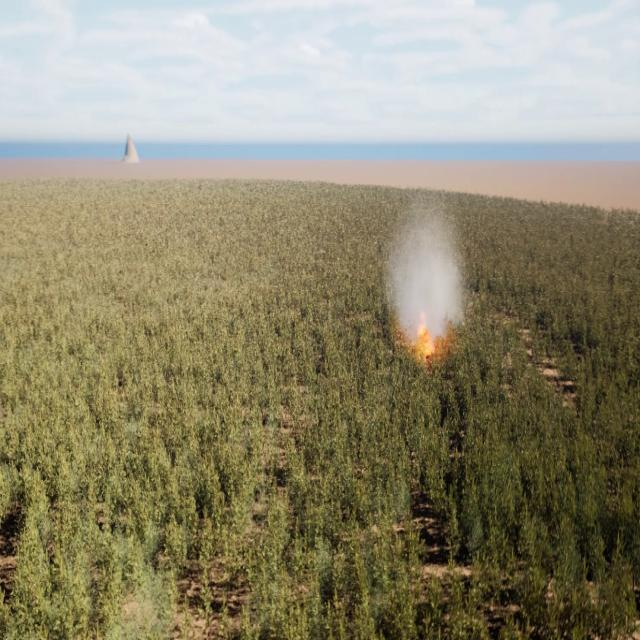fire: (415, 311, 436, 362)
smoke: (387, 193, 467, 349)
